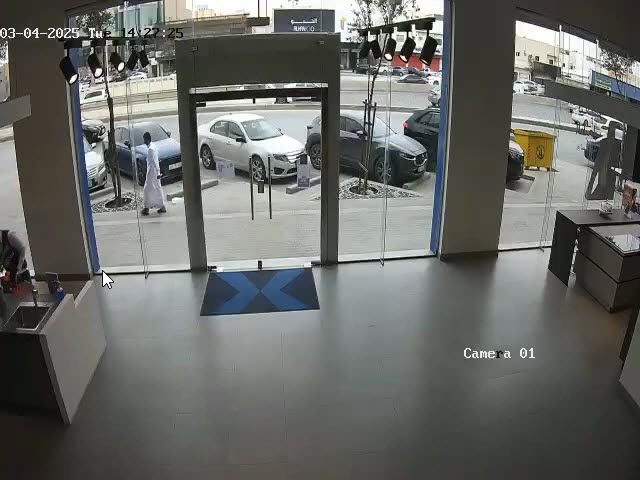employee: (4, 222, 33, 291)
male: (140, 132, 167, 216)
